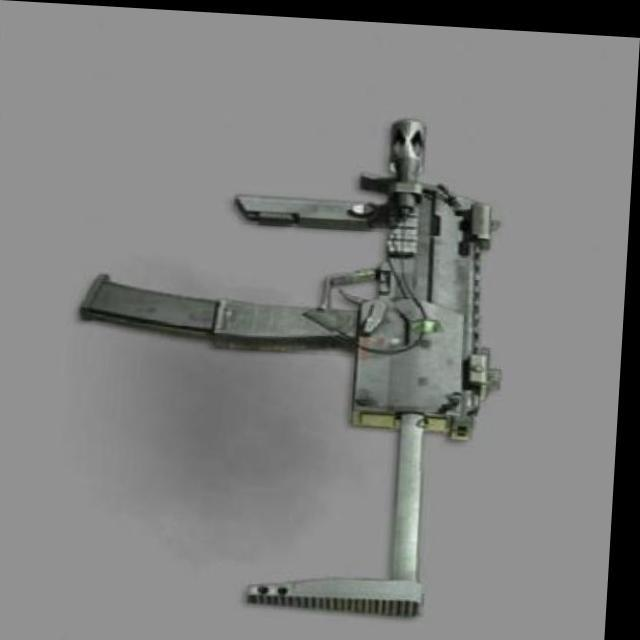weapon: (69, 95, 518, 618)
